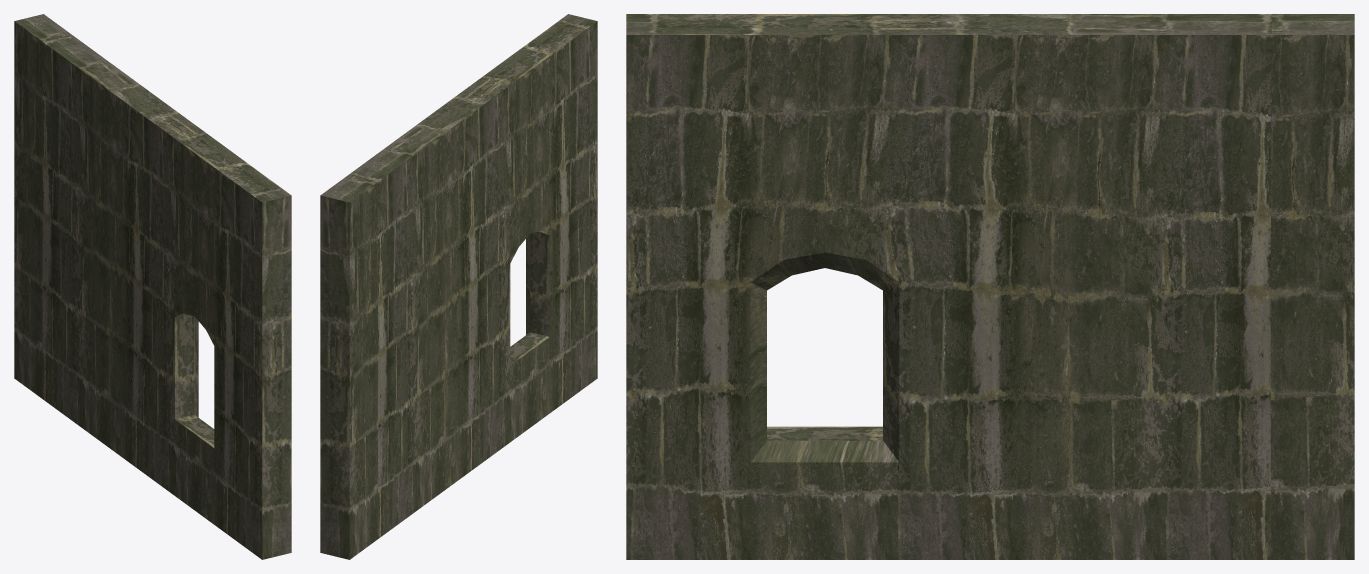
File: Wall_Window_L.fbx
3 renders of one model, left to right at view 1: azimuth 30°, elevation 25°; view 2: azimuth 150°, elevation 25°; view 3: azimuth 270°, elevation 25°, orthographic. The views are drawn at different scales.
Parts seen in each view (by area): view 1: Wall_Window_L; view 2: Wall_Window_L; view 3: Wall_Window_L.
Boxes of the visible parts, x1,y1,x2,y2 form: Wall_Window_L: (14,14,291,559); Wall_Window_L: (320,14,597,559); Wall_Window_L: (626,14,1354,559).
Size of the model in its own units: 51 by 595 by 748.
